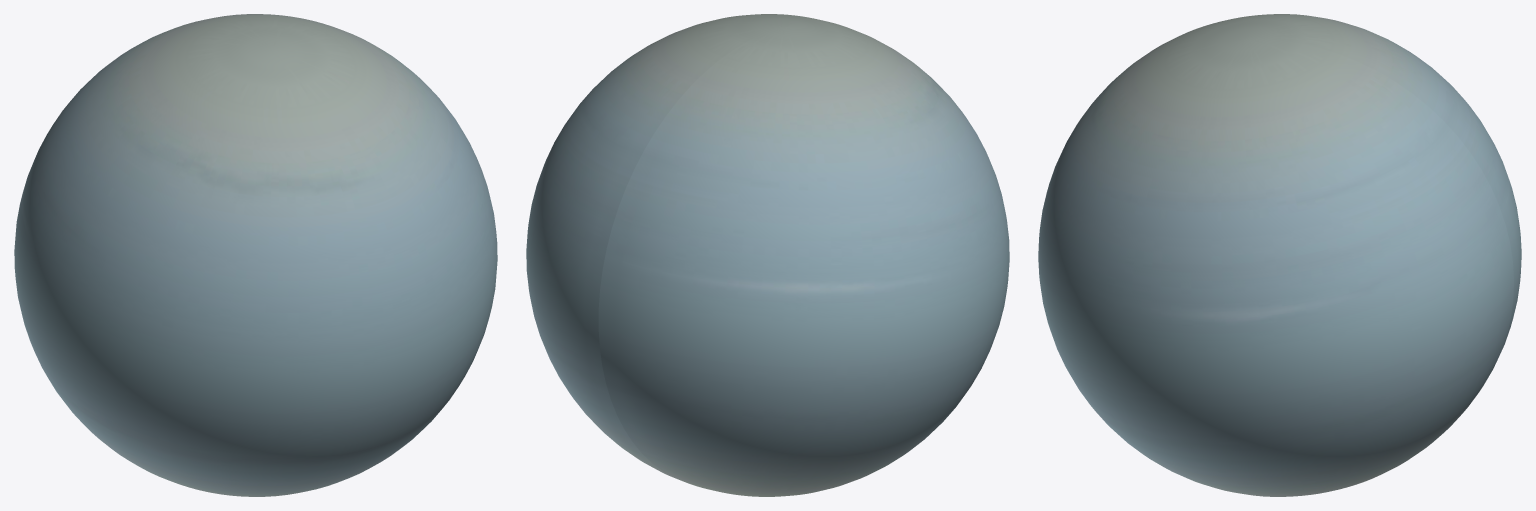
Rendered from uranus1.glb.
3 renders of one model, left to right at view 1: azimuth 30°, elevation 25°; view 2: azimuth 150°, elevation 25°; view 3: azimuth 270°, elevation 25°, orthographic.
Visible parts, largest first — view 1: Uranus; view 2: Uranus; view 3: Uranus.
Boxes of the visible parts, bbox=[...] form: Uranus: bbox=[14, 14, 497, 496]; Uranus: bbox=[526, 14, 1009, 496]; Uranus: bbox=[1038, 14, 1521, 496].
Bounding box in the file's own units: 0.6 × 0.6 × 0.6006.
Materials: 1 (1 with a texture image).
